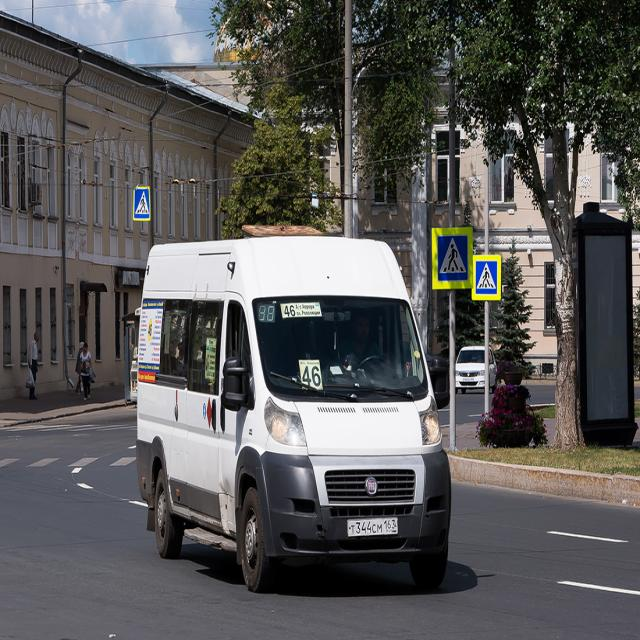number-of-bus: (302, 366, 326, 389), (285, 303, 297, 320)
